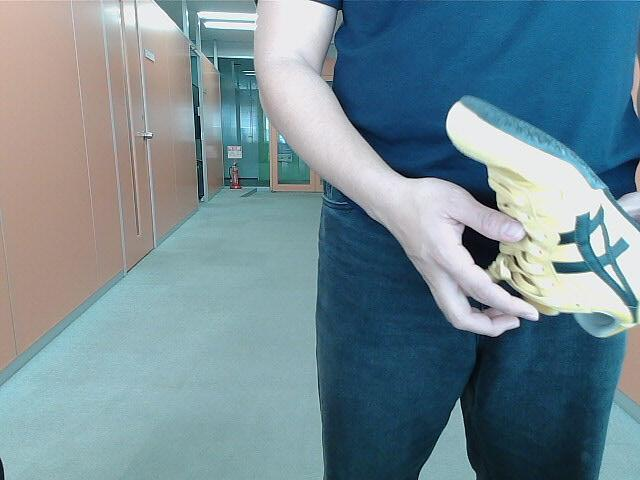Shoes: (447, 87, 640, 340)
